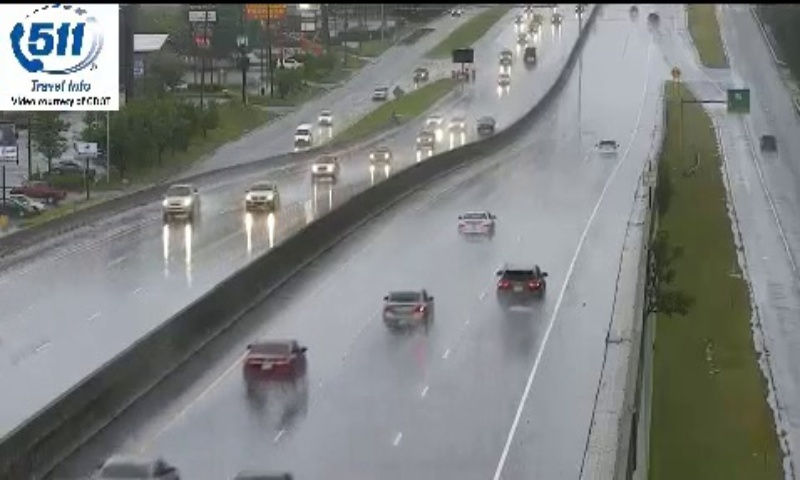car: (244, 339, 307, 388), (383, 289, 433, 333), (496, 266, 545, 303), (458, 210, 495, 235)
